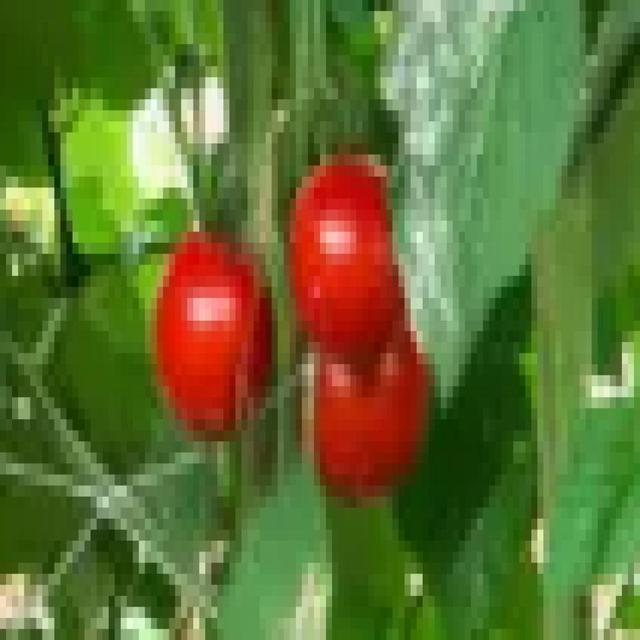Healthy Fruit: (68, 124, 236, 218)
